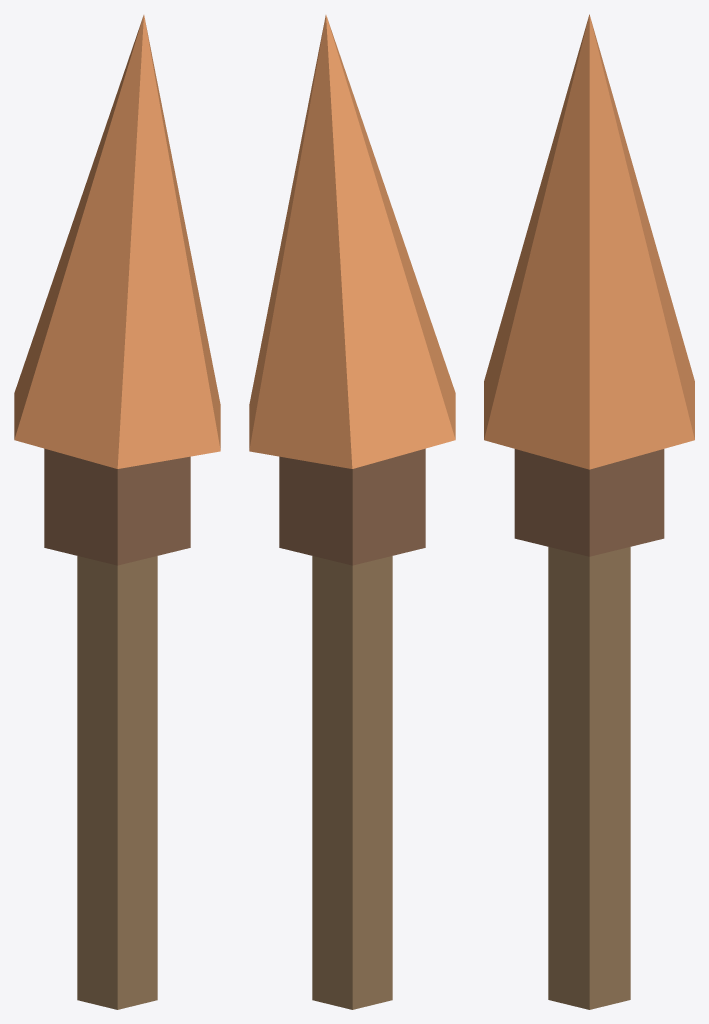
Rendered from animprop_torch_02.glb.
3 views of the same model, side by side, from view 1: azimuth 30°, elevation 25°; view 2: azimuth 150°, elevation 25°; view 3: azimuth 270°, elevation 25° (orthographic).
Visible parts, largest first — view 1: animprop; view 2: animprop; view 3: animprop.
Boxes of the visible parts, x1=… form: animprop: x1=14, y1=15, x2=220, y2=1009; animprop: x1=249, y1=15, x2=455, y2=1009; animprop: x1=484, y1=14, x2=694, y2=1009.
Bounding box in the file's own units: 0.2813 × 1.26 × 0.2442.
